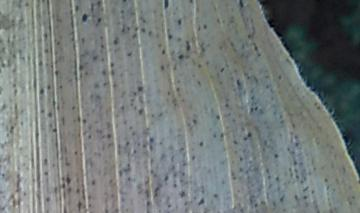tarspot: (251, 41, 261, 57), (120, 162, 132, 173), (152, 186, 161, 198), (183, 39, 191, 52), (79, 35, 87, 48), (75, 200, 82, 213), (197, 196, 206, 206), (177, 189, 186, 199), (245, 130, 255, 139), (64, 176, 74, 185), (125, 50, 134, 59), (99, 67, 108, 76), (162, 1, 170, 11), (176, 52, 184, 62), (112, 35, 120, 45), (160, 47, 168, 57), (231, 137, 239, 147), (276, 72, 284, 82), (301, 184, 309, 194), (81, 13, 88, 24), (138, 106, 145, 117), (279, 192, 286, 203), (77, 63, 85, 72), (54, 39, 63, 47), (90, 54, 98, 63), (235, 77, 241, 88), (90, 176, 96, 187), (42, 156, 48, 167), (211, 191, 219, 199), (272, 152, 280, 160), (44, 195, 52, 203), (45, 110, 53, 118), (41, 169, 49, 177), (130, 32, 138, 40), (191, 117, 199, 125), (42, 32, 50, 40), (293, 140, 301, 148), (292, 193, 300, 201), (176, 17, 183, 26), (166, 32, 173, 41), (136, 83, 143, 92), (215, 113, 222, 122), (147, 136, 156, 143), (190, 153, 197, 162), (53, 68, 60, 77), (81, 116, 88, 125), (43, 46, 50, 55), (162, 173, 169, 182), (105, 131, 112, 140), (145, 199, 152, 208), (147, 143, 154, 152), (237, 1, 244, 9), (96, 16, 103, 24), (50, 126, 58, 133), (38, 87, 45, 95), (201, 22, 208, 30), (219, 66, 226, 74), (246, 32, 253, 40), (86, 133, 93, 141), (138, 26, 146, 33), (196, 79, 203, 87), (174, 86, 182, 93), (218, 131, 225, 139), (211, 132, 218, 140), (301, 194, 309, 201), (171, 182, 178, 190), (223, 101, 230, 109), (290, 159, 298, 166), (315, 104, 322, 112), (196, 22, 201, 33), (147, 29, 153, 38), (74, 3, 79, 13), (38, 107, 45, 114), (108, 60, 115, 67), (238, 154, 245, 161), (70, 104, 77, 111), (196, 62, 203, 69), (98, 34, 105, 41), (131, 147, 138, 154), (159, 63, 165, 71), (253, 104, 259, 112), (58, 83, 64, 91), (72, 149, 78, 157), (180, 170, 186, 178), (102, 80, 110, 86), (323, 176, 329, 184), (249, 105, 254, 114), (197, 140, 204, 146), (274, 175, 280, 182), (166, 203, 173, 209), (119, 104, 125, 111), (310, 188, 316, 195), (98, 42, 104, 48), (124, 140, 130, 146), (96, 1, 101, 8), (187, 1, 194, 5), (119, 1, 128, 3)
